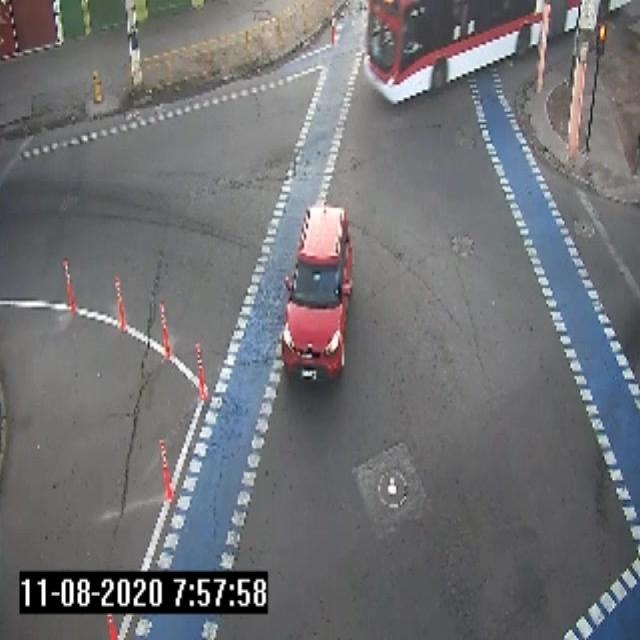AB: (357, 1, 635, 108)
